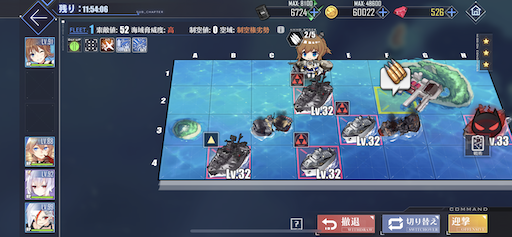boss: (464, 106, 509, 147)
lv1: (206, 135, 251, 176)
lv3: (334, 103, 385, 149), (295, 131, 342, 175), (291, 73, 335, 112)
